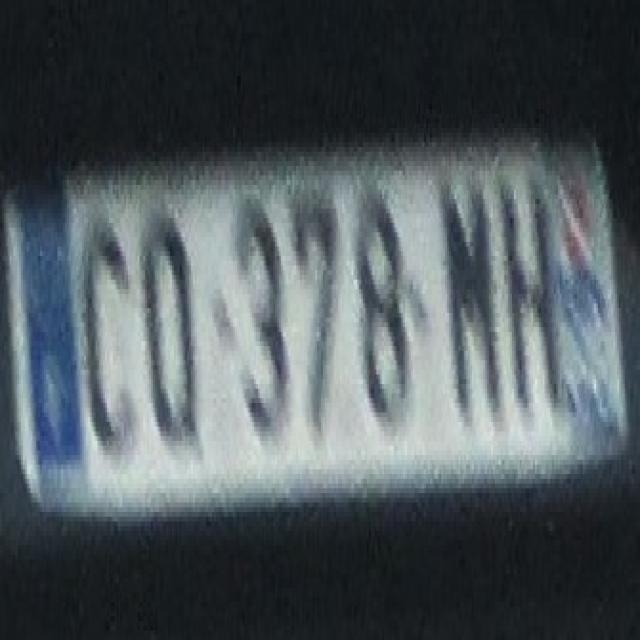Autre: (0, 180, 630, 488)
